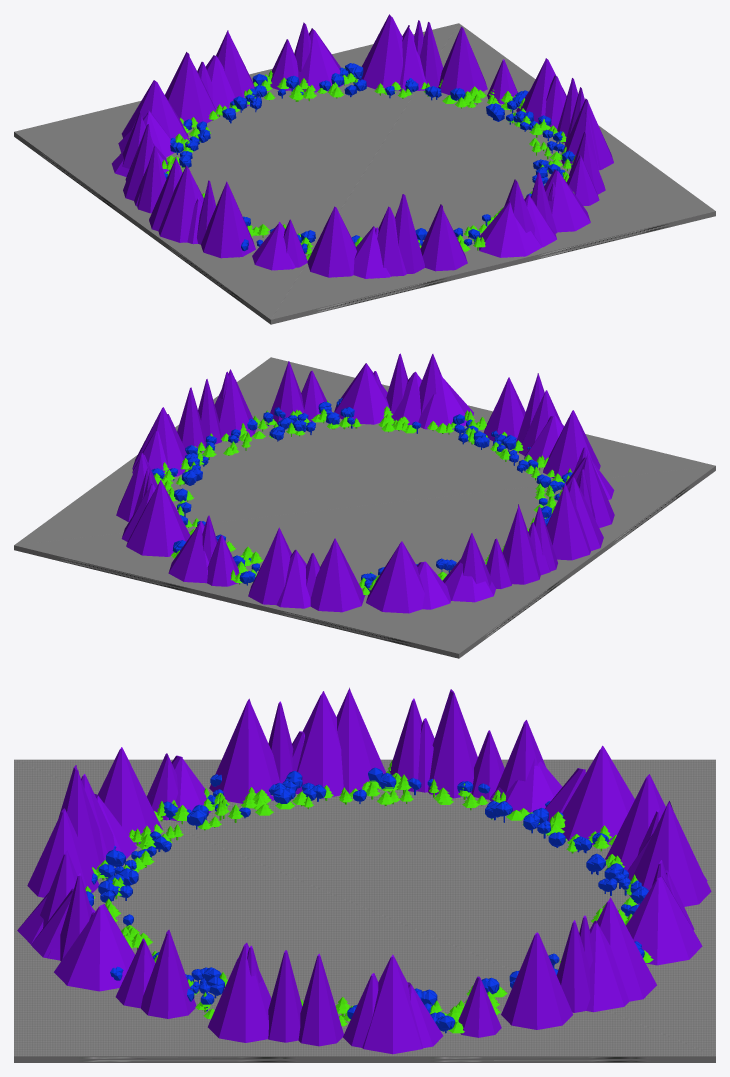
The model's file is Level2Map.glb.
The picture shows the model from 3 angles, top to bottom: view 1: azimuth 30°, elevation 25°; view 2: azimuth 150°, elevation 25°; view 3: azimuth 270°, elevation 25°; orthographic projection. The views are drawn at different scales.
Parts seen in each view (by area): view 1: Cube, Mountain_32_Height27m, Mountain_38_Height24m, Mountain_11_Height27m, Mountain_20_Height26m, Mountain_43_Height18m, Mountain_42_Height22m, Mountain_06_Height25m, Mountain_31_Height27m, Mountain_46_Height20m, Mountain_22_Height23m, Mountain_12_Height20m (+27 smaller); view 2: Cube, Mountain_11_Height27m, Mountain_22_Height23m, Mountain_20_Height26m, Mountain_29_Height28m, Mountain_46_Height20m, Mountain_15_Height28m, Mountain_26_Height29m, Mountain_38_Height24m, Mountain_12_Height20m, Mountain_42_Height22m, Mountain_53_Height26m (+23 smaller); view 3: Cube, Mountain_46_Height20m, Mountain_22_Height23m, Mountain_06_Height25m, Mountain_12_Height20m, Mountain_32_Height27m, Mountain_15_Height28m, Mountain_53_Height26m, Mountain_01_Height24m, Mountain_31_Height27m, Mountain_26_Height29m, Mountain_38_Height24m (+29 smaller).
Boxes of the visible parts, left/top/right/bottom form: Cube: left=14, top=23, right=715, bottom=324; Mountain_32_Height27m: left=201, top=181, right=255, bottom=258; Mountain_38_Height24m: left=307, top=206, right=356, bottom=277; Mountain_11_Height27m: left=360, top=14, right=402, bottom=90; Mountain_20_Height26m: left=165, top=52, right=218, bottom=123; Mountain_43_Height18m: left=478, top=201, right=541, bottom=257; Mountain_42_Height22m: left=420, top=204, right=467, bottom=271; Mountain_06_Height25m: left=438, top=26, right=487, bottom=95; Mountain_31_Height27m: left=158, top=165, right=203, bottom=242; Mountain_46_Height20m: left=544, top=169, right=590, bottom=232; Mountain_22_Height23m: left=121, top=80, right=189, bottom=140; Mountain_12_Height20m: left=298, top=28, right=343, bottom=92; Cube: left=14, top=357, right=715, bottom=658; Mountain_11_Height27m: left=126, top=480, right=190, bottom=556; Mountain_22_Height23m: left=366, top=541, right=424, bottom=613; Mountain_20_Height26m: left=310, top=538, right=364, bottom=612; Mountain_29_Height28m: left=546, top=482, right=590, bottom=560; Mountain_46_Height20m: left=334, top=363, right=389, bottom=424; Mountain_15_Height28m: left=248, top=527, right=291, bottom=604; Mountain_26_Height29m: left=502, top=504, right=540, bottom=584; Mountain_38_Height24m: left=543, top=410, right=600, bottom=478; Mountain_12_Height20m: left=168, top=521, right=208, bottom=583; Mountain_42_Height22m: left=483, top=377, right=525, bottom=441; Mountain_53_Height26m: left=214, top=369, right=255, bottom=440; Cube: left=14, top=759, right=715, bottom=1062; Mountain_46_Height20m: left=54, top=904, right=134, bottom=991; Mountain_22_Height23m: left=561, top=745, right=634, bottom=845; Mountain_06_Height25m: left=501, top=932, right=573, bottom=1029; Mountain_12_Height20m: left=626, top=876, right=702, bottom=965; Mountain_32_Height27m: left=209, top=698, right=280, bottom=803; Mountain_15_Height28m: left=626, top=801, right=711, bottom=906; Mountain_53_Height26m: left=208, top=942, right=271, bottom=1042; Mountain_01_Height24m: left=362, top=954, right=422, bottom=1054; Mountain_31_Height27m: left=295, top=691, right=343, bottom=798; Mountain_26_Height29m: left=428, top=689, right=477, bottom=798; Mountain_38_Height24m: left=97, top=747, right=162, bottom=844.
Bounding box in the file's own units: 191 × 31.36 × 191.
Materials: 4 (1 with a texture image).
